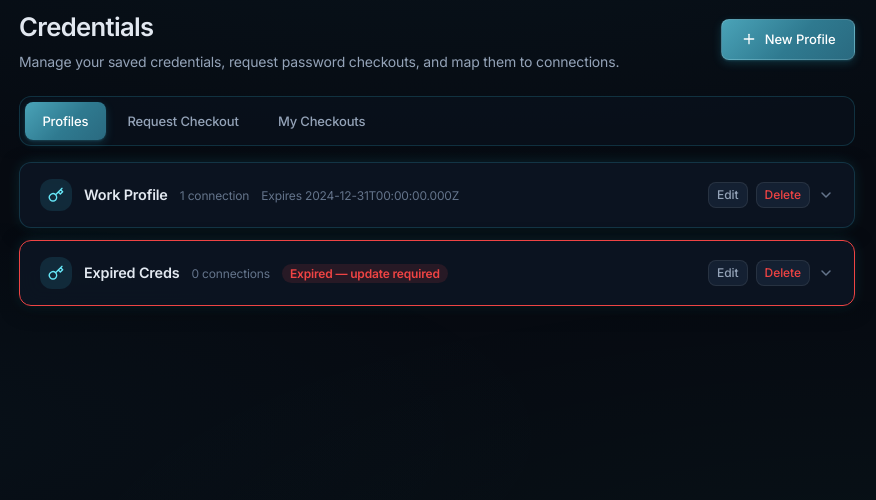
Scenario: Credentials › collapses expanded profile on second click
Click the text "Work Profile". click: point(126, 195)
box: [84,186,168,203]
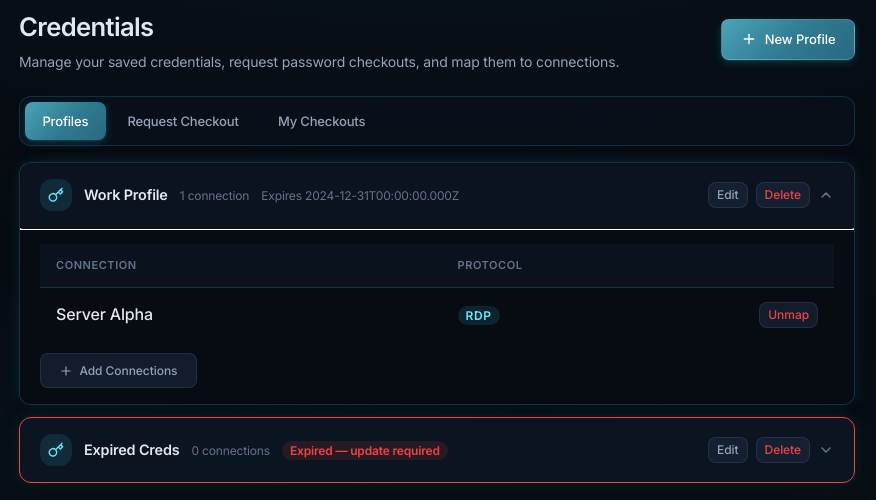
Expected: the button "Unmap" is shown, [759,302,818,328]
Note: Click again to collapse
Click the text "Work Profile". click: point(126, 195)
box: [84,186,168,203]
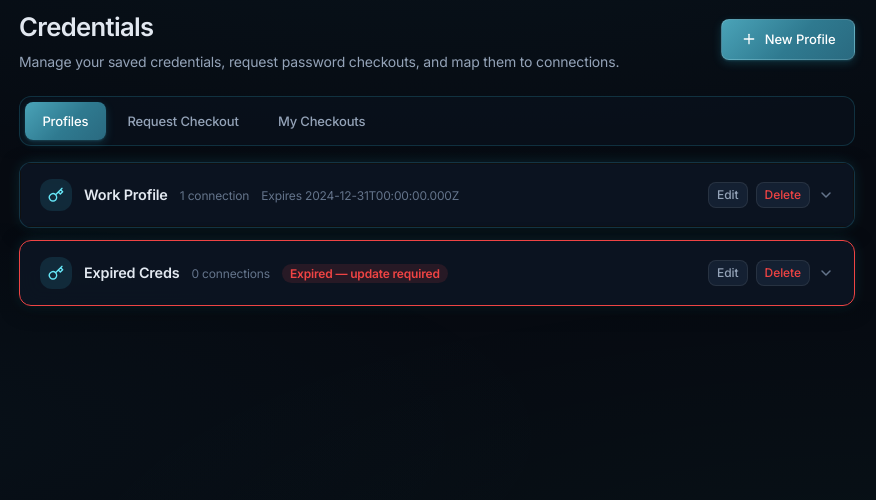
Expected: the button "Unmap" is gone
